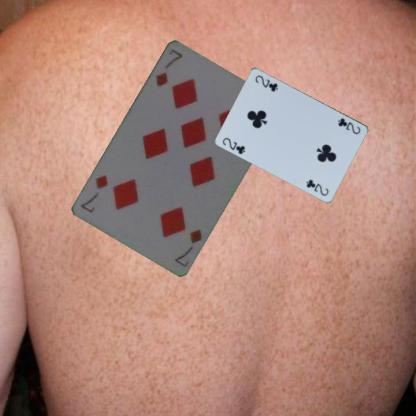2c: (220, 134, 247, 156), (336, 115, 362, 135)
7d: (172, 225, 204, 268), (153, 46, 184, 87)
